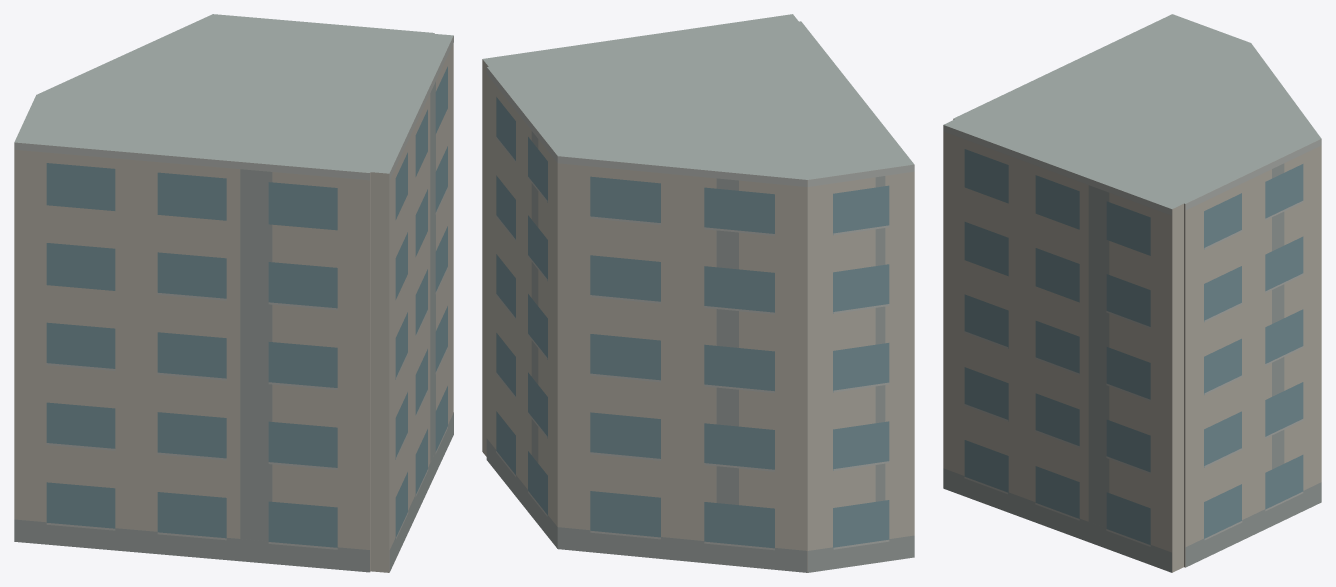
Rendered from survey-upis-32883979.glb.
The picture shows the model from 3 angles, left to right: view 1: azimuth 30°, elevation 25°; view 2: azimuth 150°, elevation 25°; view 3: azimuth 270°, elevation 25°; orthographic projection. The views are drawn at different scales.
Visible parts, largest first — view 1: survey-upis-32883979.tmp; view 2: survey-upis-32883979.tmp; view 3: survey-upis-32883979.tmp.
Boxes of the visible parts, x1,y1,x2,y2 form: survey-upis-32883979.tmp: (14,14,453,572); survey-upis-32883979.tmp: (482,14,914,572); survey-upis-32883979.tmp: (943,14,1321,572).
Bounding box in the file's own units: 15.44 × 13.4 × 12.64.
